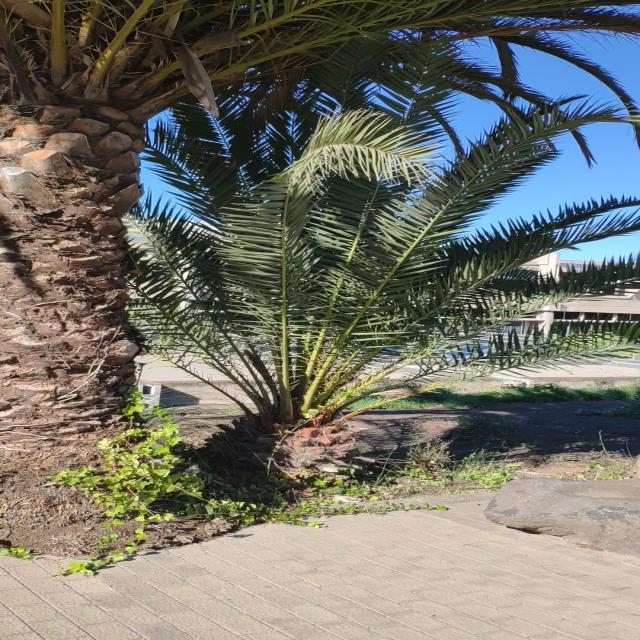Palm-Trees: (61, 94, 640, 498)
